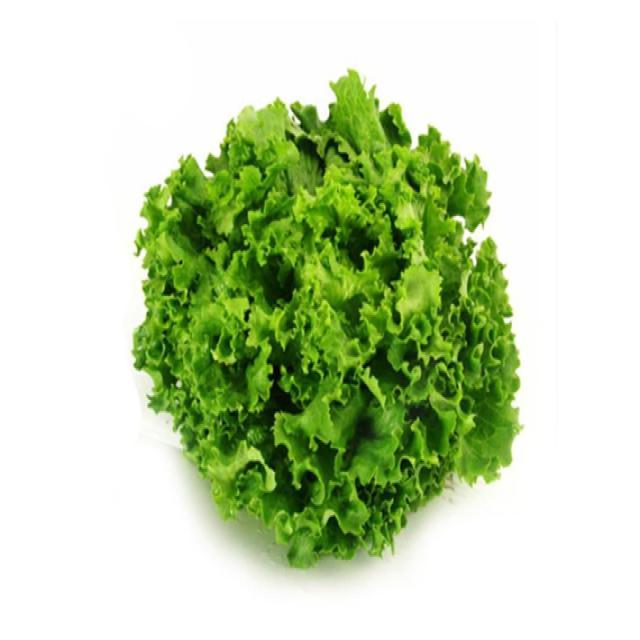Lettuce-Ready-to-Harvest: (134, 71, 519, 566)
